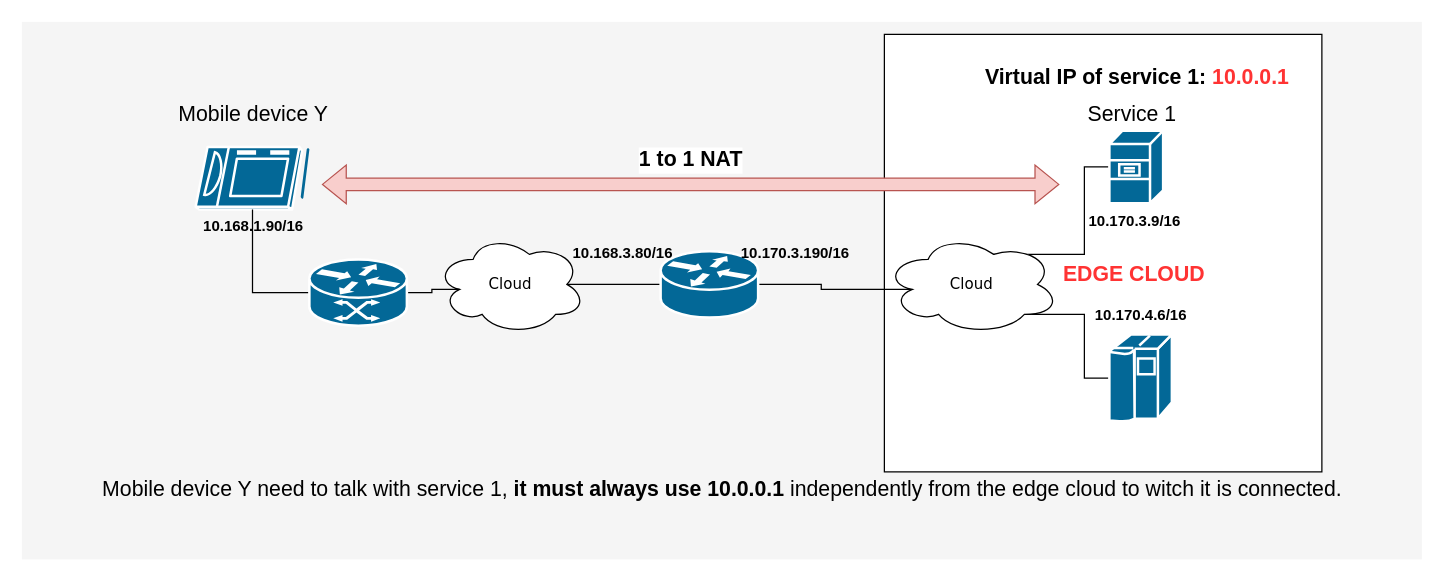
The diagram is 1443 pixels wide and 580 high, and some of its shapes have lost their labels. Here are the shapes that lost their labels. From the top down, the box of each, then its label:
(308, 258, 408, 326): UPF
(1108, 332, 1172, 422): Service 2
